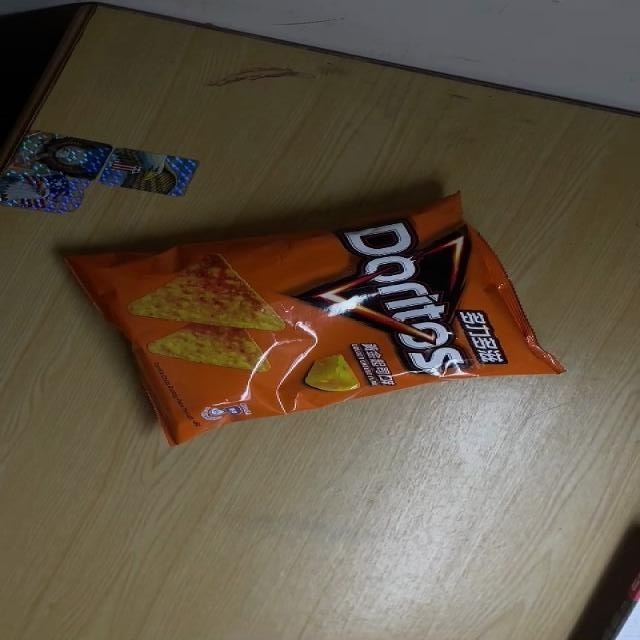Doritos: (53, 190, 569, 448)
